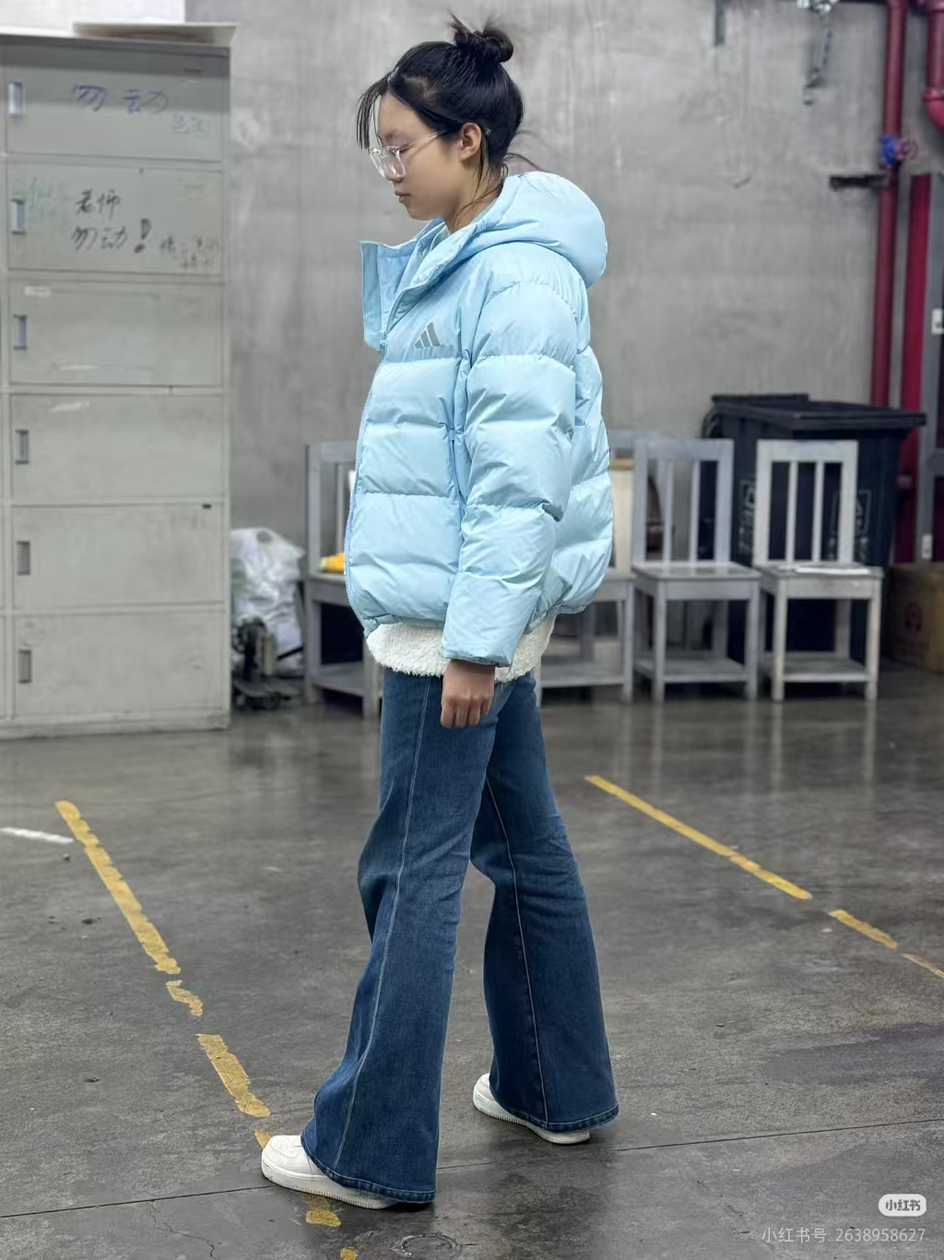up: (252, 20, 642, 1234)
